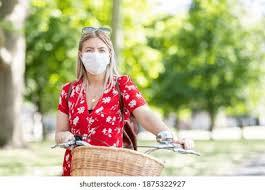mask: (79, 51, 112, 75)
